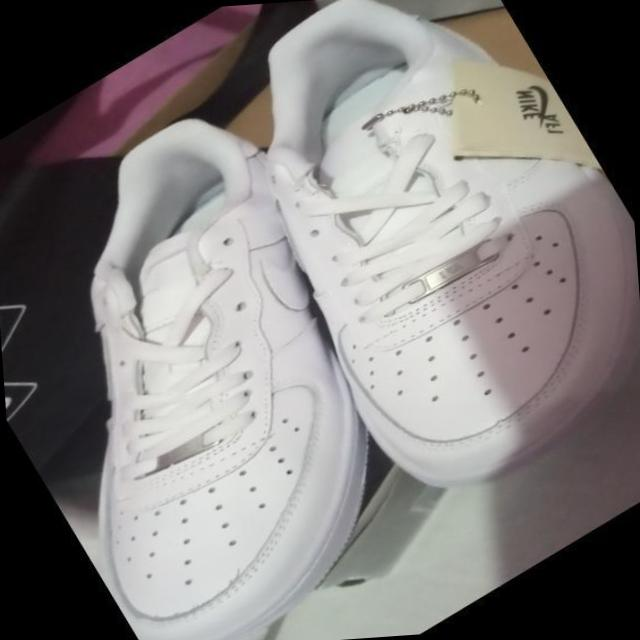nike_fake_airforce: (0, 76, 477, 640), (151, 0, 640, 547)
